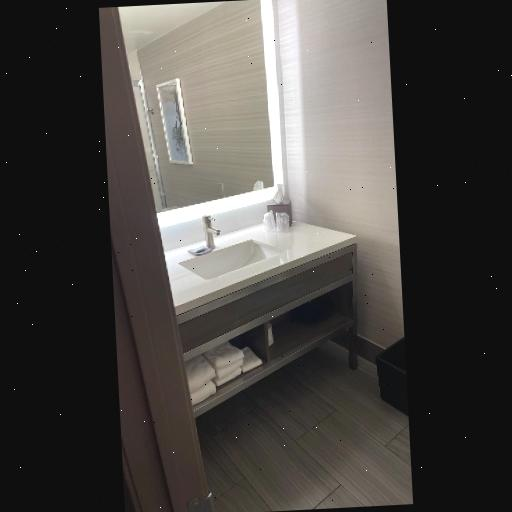clean_floor: (195, 354, 413, 510)
clean_sink: (166, 206, 359, 421)
folded_towel: (179, 340, 266, 410)
